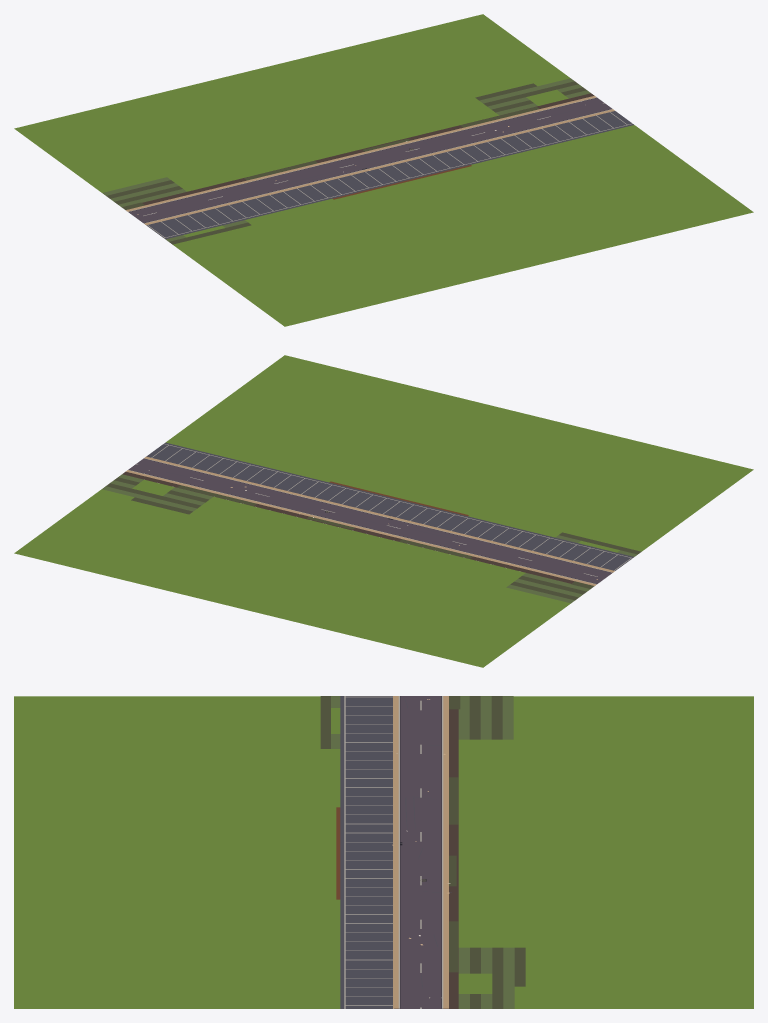
File: cure-21-2.glb
The picture shows the model from 3 angles, top to bottom: view 1: azimuth 30°, elevation 25°; view 2: azimuth 150°, elevation 25°; view 3: azimuth 270°, elevation 25°; orthographic projection. The views are drawn at different scales.
Parts seen in each view (by area): view 1: cure-21-2; view 2: cure-21-2; view 3: cure-21-2.
Part boxes in pixels (bbox=[...]): cure-21-2: bbox=[14, 14, 753, 326]; cure-21-2: bbox=[14, 355, 753, 667]; cure-21-2: bbox=[14, 696, 753, 1008].
Size of the model in its own units: 100 by 0.017 by 100.
